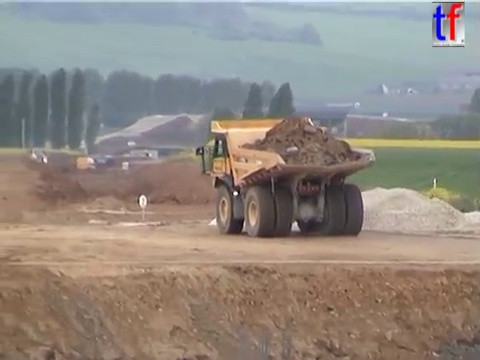truck: (193, 114, 380, 239)
